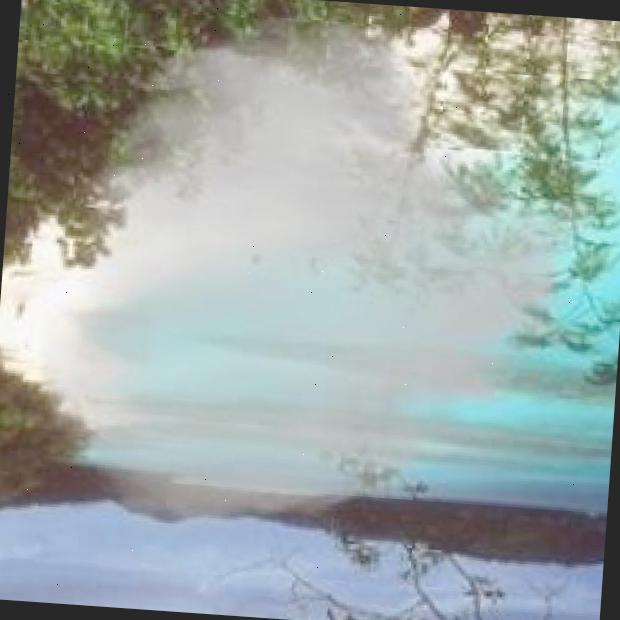smoke: (23, 0, 614, 563)
